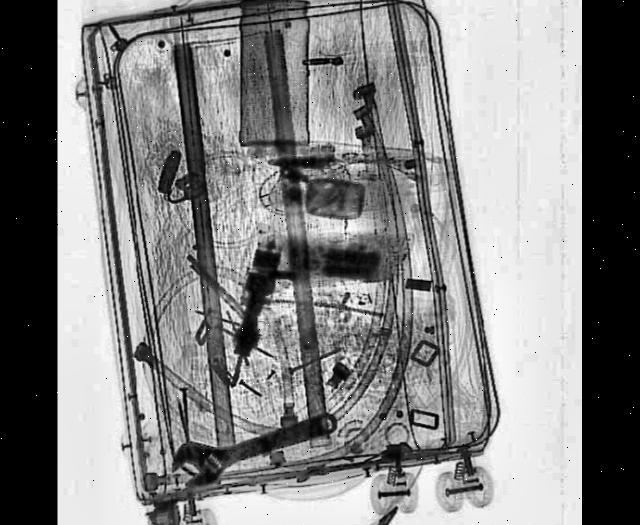Wrench: (170, 398, 343, 494)
